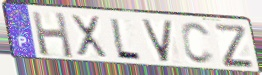C: (179, 21, 217, 66)
H: (30, 10, 76, 60)
L: (109, 17, 143, 62)
V: (138, 18, 176, 64)
X: (69, 13, 110, 61)
Z: (211, 22, 256, 68)
